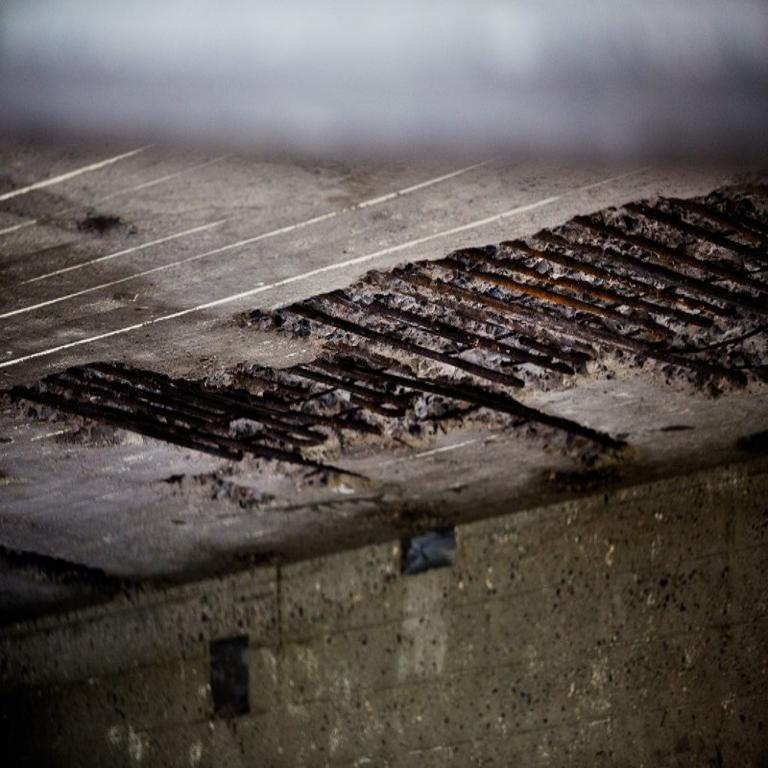exposed_rebar: (10, 363, 362, 476), (400, 276, 747, 387), (312, 357, 620, 447), (324, 291, 574, 373), (454, 249, 712, 328), (290, 304, 524, 386), (440, 261, 672, 340), (501, 240, 734, 316), (536, 230, 748, 304), (578, 216, 768, 295), (628, 204, 768, 264), (293, 366, 405, 417), (668, 198, 768, 247)
spalling: (28, 187, 768, 471)
